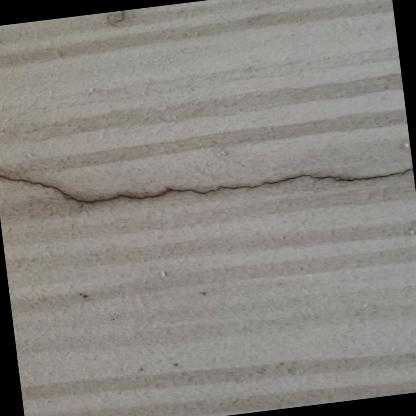crack: (0, 166, 413, 203)
